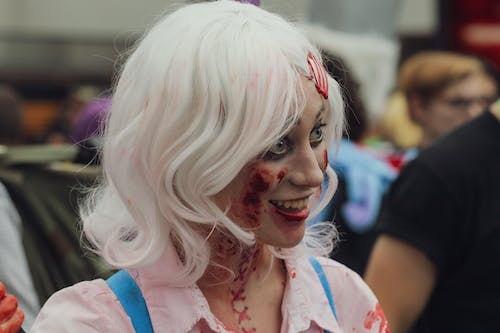blood: (210, 227, 262, 333), (214, 161, 289, 232), (304, 50, 333, 100), (0, 279, 25, 333), (361, 296, 392, 333), (320, 146, 328, 171)
